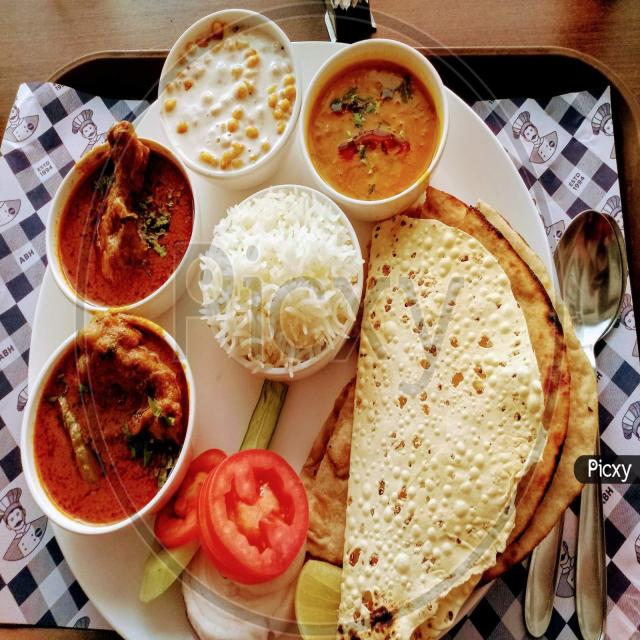non veg meals: (26, 5, 554, 640)
